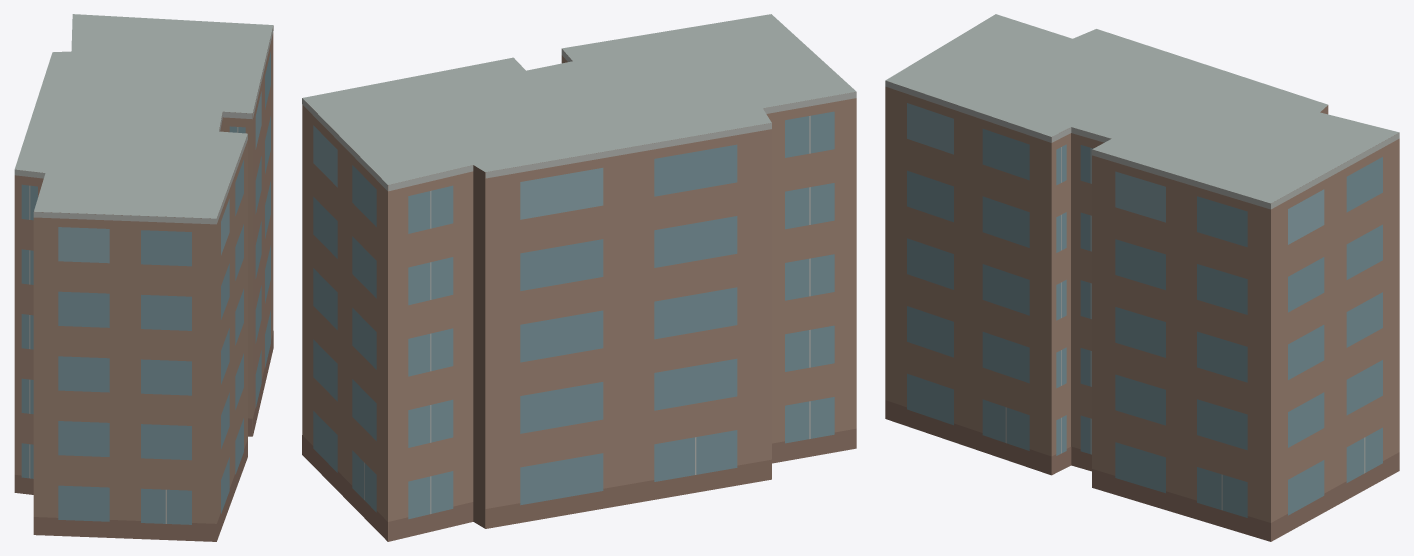
Rendered from survey-upis-32578102.glb.
3 views of the same model, side by side, from view 1: azimuth 30°, elevation 25°; view 2: azimuth 150°, elevation 25°; view 3: azimuth 270°, elevation 25° (orthographic). The views are drawn at different scales.
Parts seen in each view (by area): view 1: survey-upis-32578102.tmp; view 2: survey-upis-32578102.tmp; view 3: survey-upis-32578102.tmp.
Boxes of the visible parts, x1,y1,x2,y2 form: survey-upis-32578102.tmp: (14,14,273,541); survey-upis-32578102.tmp: (302,14,856,541); survey-upis-32578102.tmp: (885,14,1399,541).
Bounding box in the file's own units: 16.53 × 13.75 × 18.95.
